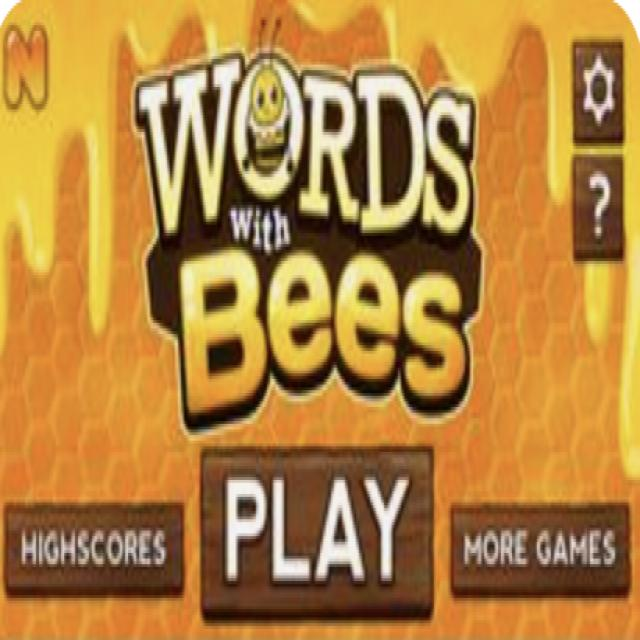Start-button: (204, 452, 431, 613)
